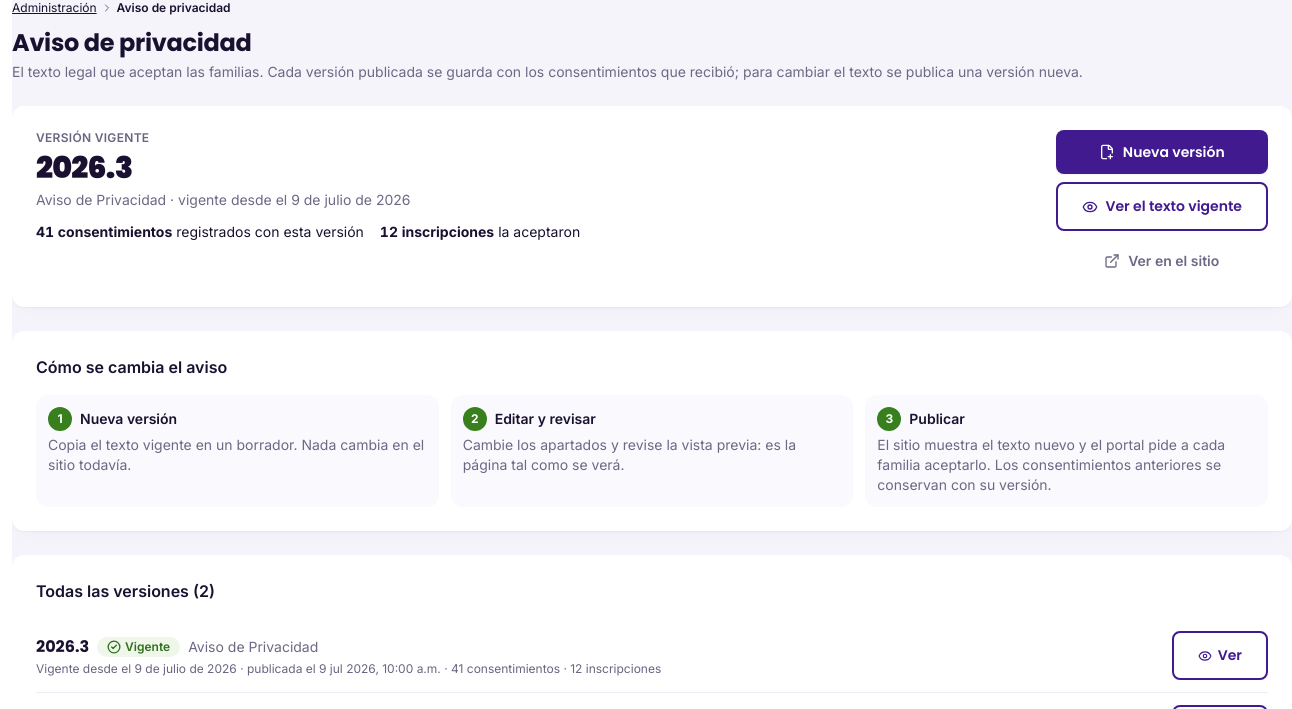
AdminPrivacyNotice (/admin/aviso-privacidad) › «Nueva versión» creates a draft from the current text and opens it
Click the button "Nueva versión" at (1162, 152), box [1056,130,1268,174]
(page scrolled)
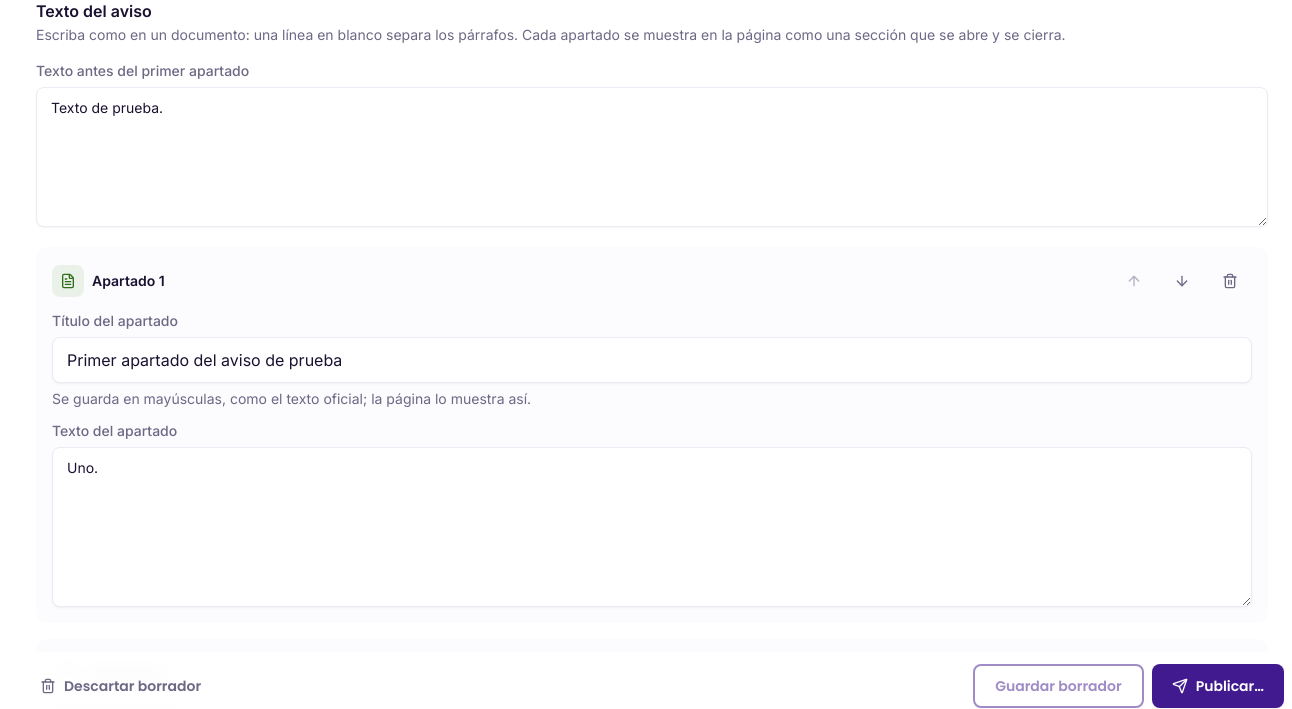
expect the text box labelled "Texto antes del primer apartado" holds "Texto de prueba.": met, box [36,87,1268,227]
expect the field labelled "Título del apartado" holds "Primer apartado del aviso de prueba": met, box [52,337,1252,383]
